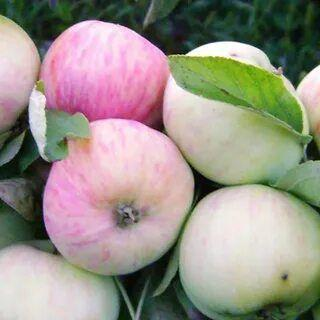Apple: (44, 119, 195, 278), (180, 185, 316, 316), (41, 18, 170, 118)
